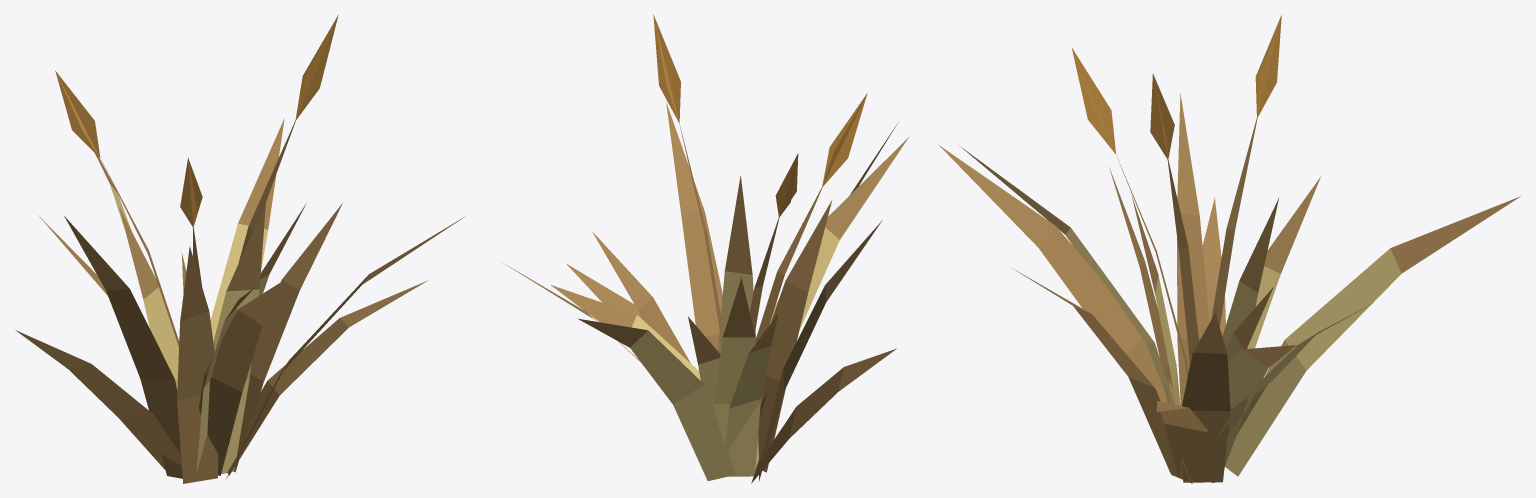
Rendered from dune_grass_b.glb.
The picture shows the model from 3 angles, left to right: view 1: azimuth 30°, elevation 25°; view 2: azimuth 150°, elevation 25°; view 3: azimuth 270°, elevation 25°; orthographic projection. The views are drawn at different scales.
Visible parts, largest first — view 1: dune_grass_b; view 2: dune_grass_b; view 3: dune_grass_b.
Boxes of the visible parts, box(x1,y1,x2,y2) form: dune_grass_b: box(15, 15, 465, 483); dune_grass_b: box(502, 14, 909, 483); dune_grass_b: box(938, 15, 1520, 483).
Size of the model in its own units: 0.6164 by 0.6831 by 0.7967.
